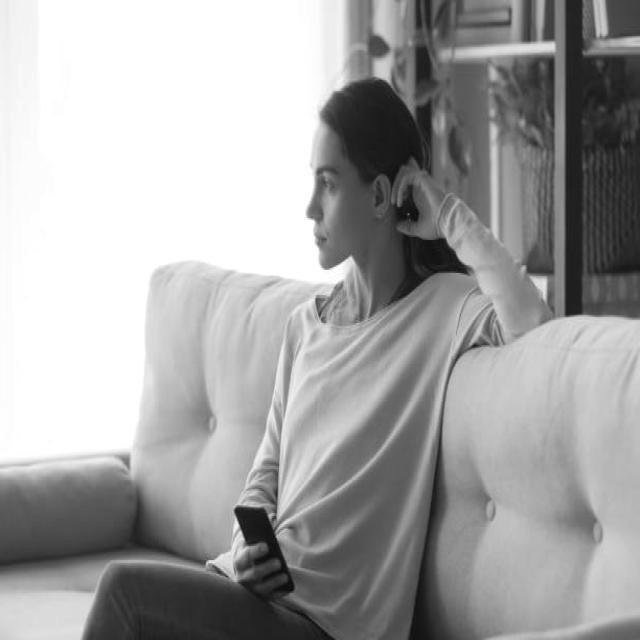Looking away: (304, 120, 364, 271)
